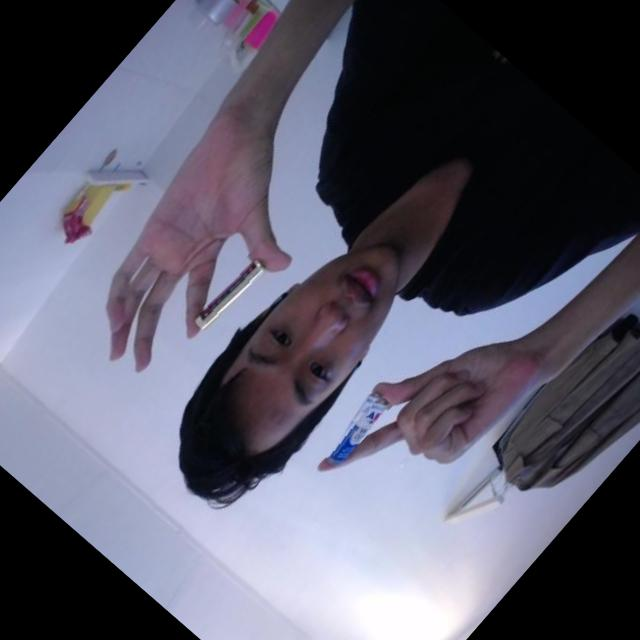Hazard: (191, 250, 271, 336), (316, 386, 393, 469)
